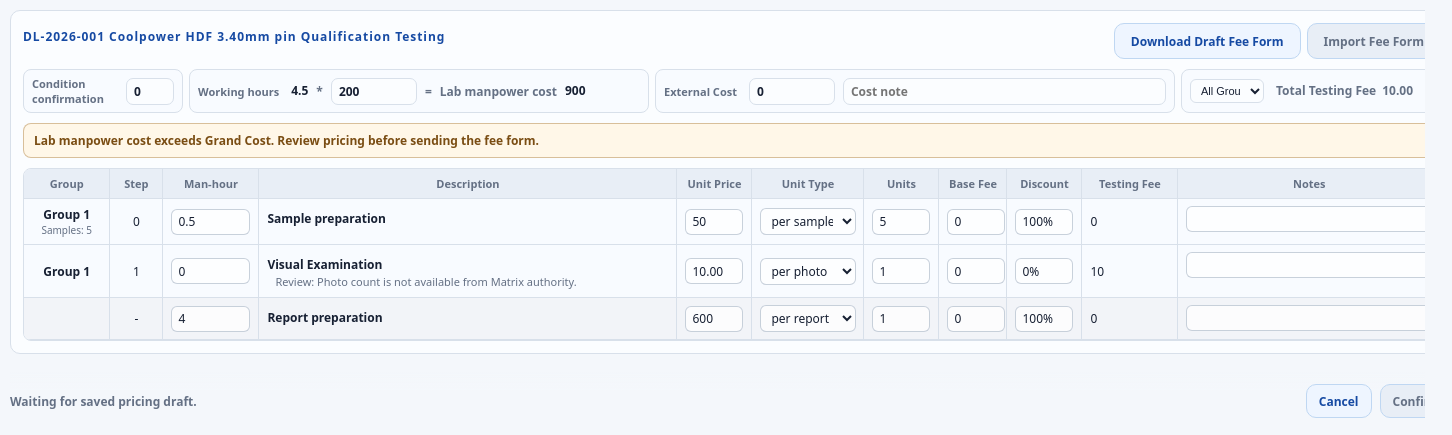
FeeEvaluationReviewExportPage › stays on Fee Evaluation when in-flight autosave cannot be confirmed safe
Expected: the table named "Testing Prices preview rows" is shown, [24,169,1440,340]
Replace the text in the field named "Unit Price for Visual Examination" with "12": [714, 271] box [686,258,744,284]
Wait 800 ms
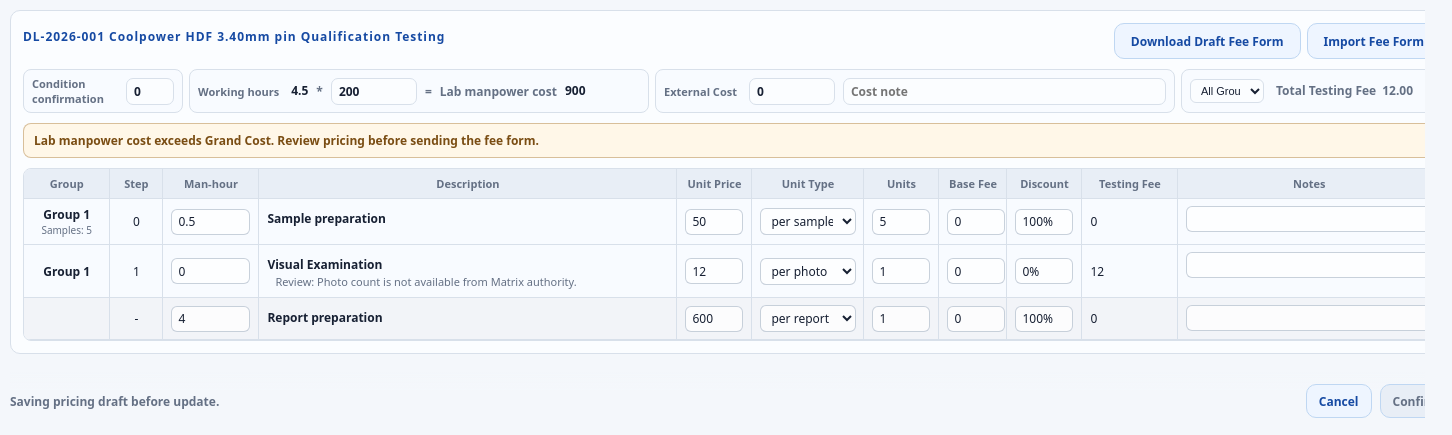
Click the button "Cancel": [1339, 401] box [1306,384,1372,418]
Wait 1500 ms
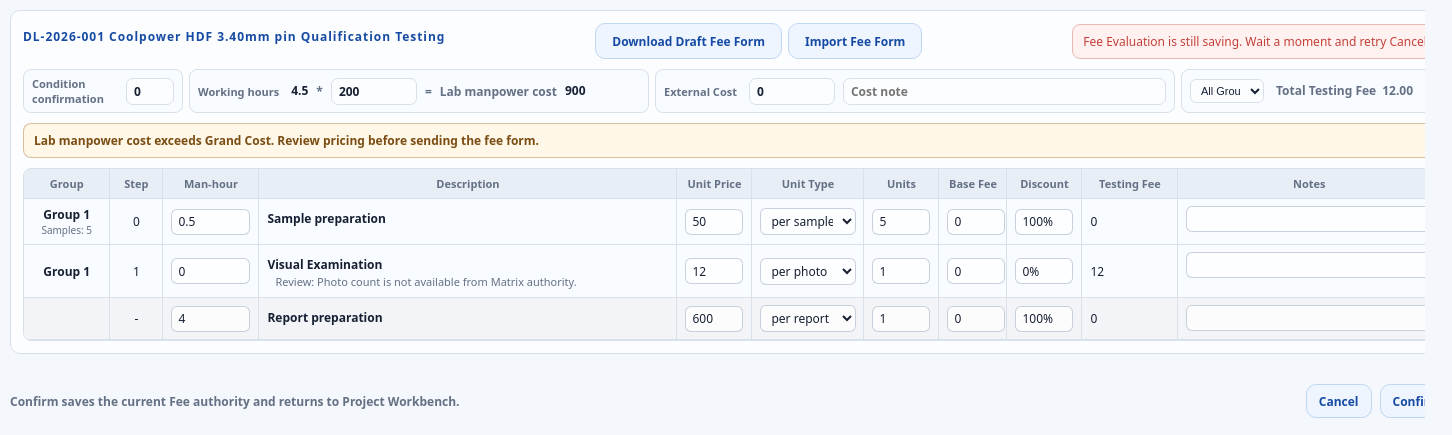
Expected: the text "Fee Evaluation is still saving. Wait a moment and retry Cancel." is shown once, [1072,24,1441,58]
